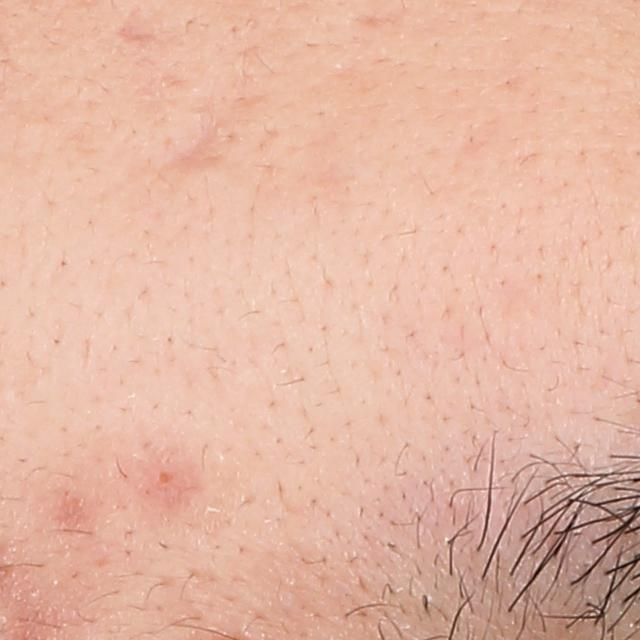atrophic_scar: (155, 98, 231, 181), (114, 4, 156, 45)
papule: (153, 468, 181, 494)
